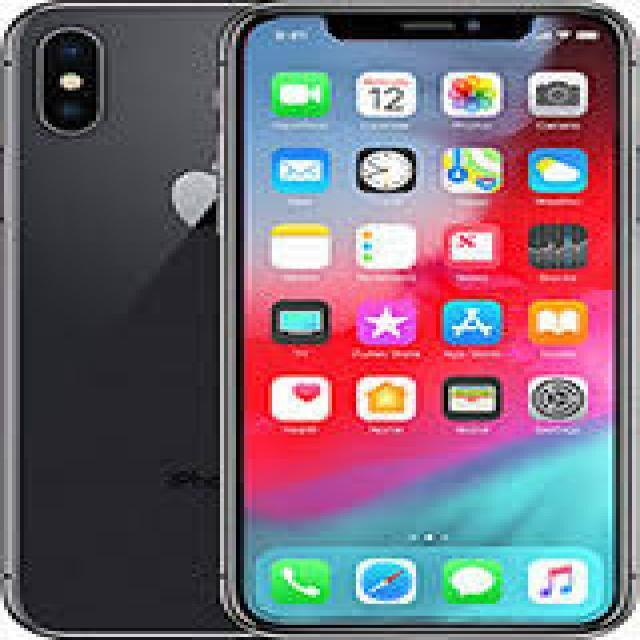phone: (220, 3, 632, 640)
